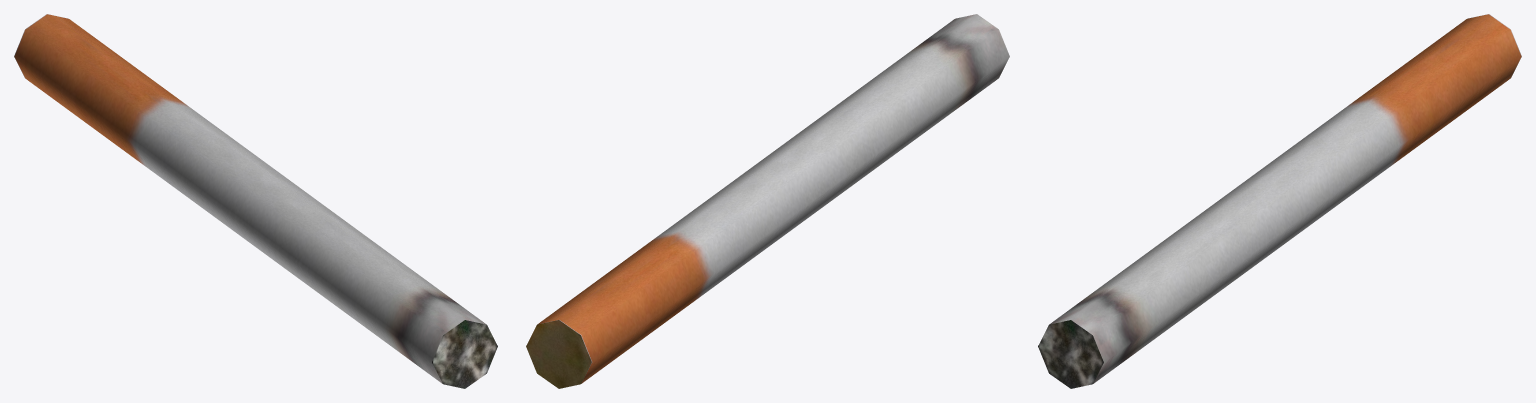
File: cigarette.obj
The picture shows the model from 3 angles, left to right: view 1: azimuth 30°, elevation 25°; view 2: azimuth 150°, elevation 25°; view 3: azimuth 330°, elevation 25°; orthographic projection.
Visible parts, largest first — view 1: br_cig; view 2: br_cig; view 3: br_cig.
Part boxes in pixels (<box>): br_cig: <box>14,14,497,388</box>; br_cig: <box>526,14,1009,388</box>; br_cig: <box>1038,14,1521,388</box>.
Bounding box in the file's own units: 0.75 × 0.75 × 8.23.
1 material, 1 textured.
